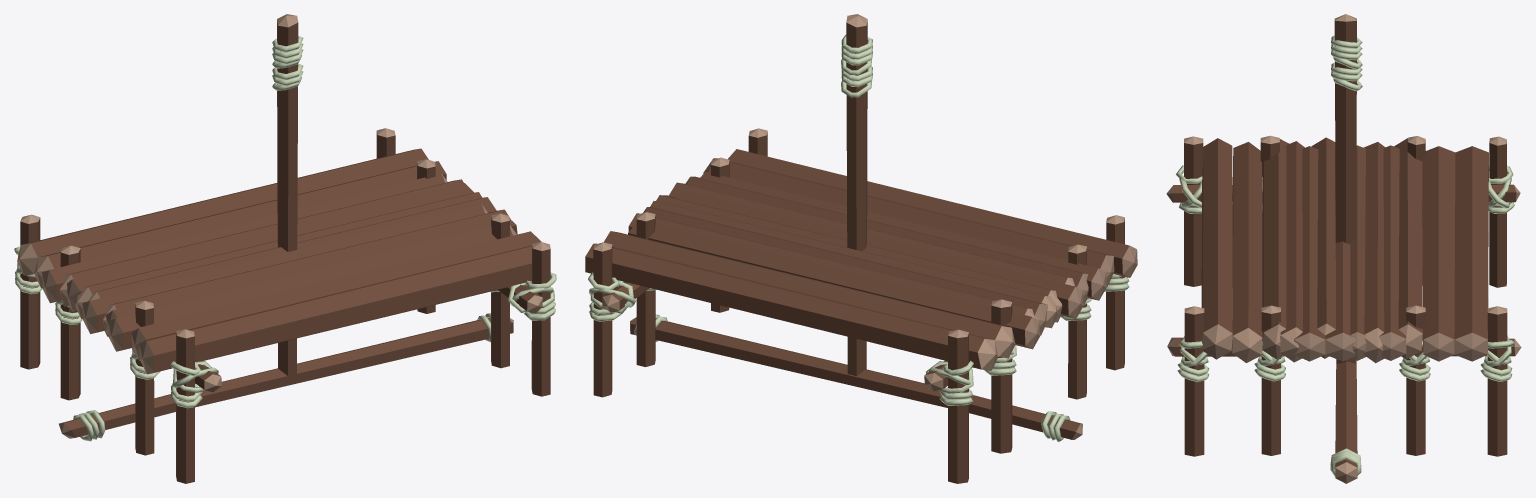
Rendered from JungleBridge.fbx.
3 views of the same model, side by side, from view 1: azimuth 30°, elevation 25°; view 2: azimuth 150°, elevation 25°; view 3: azimuth 270°, elevation 25° (orthographic). The views are drawn at different scales.
Visible parts, largest first — view 1: Bridge_03, Bridge_02, Bridge_fence_01, Bridge_post_01; view 2: Bridge_03, Bridge_02, Bridge_fence_01, Bridge_post_01; view 3: Bridge_03, Bridge_02, Bridge_post_01, Bridge_fence_01.
Boxes of the visible parts, x1=… form: Bridge_03: x1=14, y1=128, x2=556, y2=483; Bridge_02: x1=55, y1=159, x2=517, y2=455; Bridge_fence_01: x1=59, y1=313, x2=513, y2=441; Bridge_post_01: x1=272, y1=14, x2=303, y2=382; Bridge_03: x1=585, y1=128, x2=1137, y2=483; Bridge_02: x1=628, y1=157, x2=1091, y2=453; Bridge_fence_01: x1=630, y1=314, x2=1082, y2=441; Bridge_post_01: x1=841, y1=14, x2=872, y2=375; Bridge_03: x1=1166, y1=136, x2=1521, y2=456; Bridge_02: x1=1254, y1=135, x2=1430, y2=455; Bridge_post_01: x1=1331, y1=14, x2=1362, y2=363; Bridge_fence_01: x1=1330, y1=360, x2=1361, y2=483.
Size of the model in its own units: 1.6 by 1.27 by 1.12.
